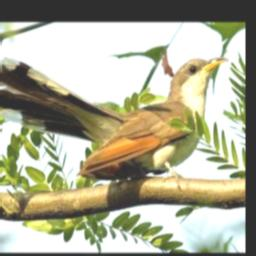Cuckoo: (0, 56, 228, 183)
